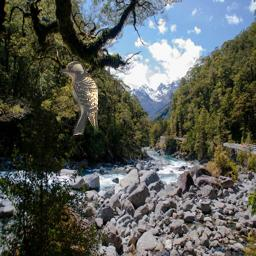Woodpecker: (59, 61, 98, 135)
